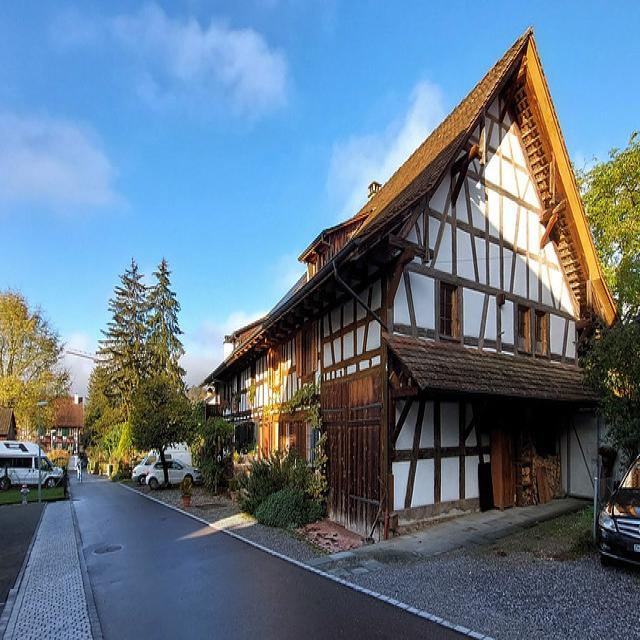building: (189, 32, 624, 548)
